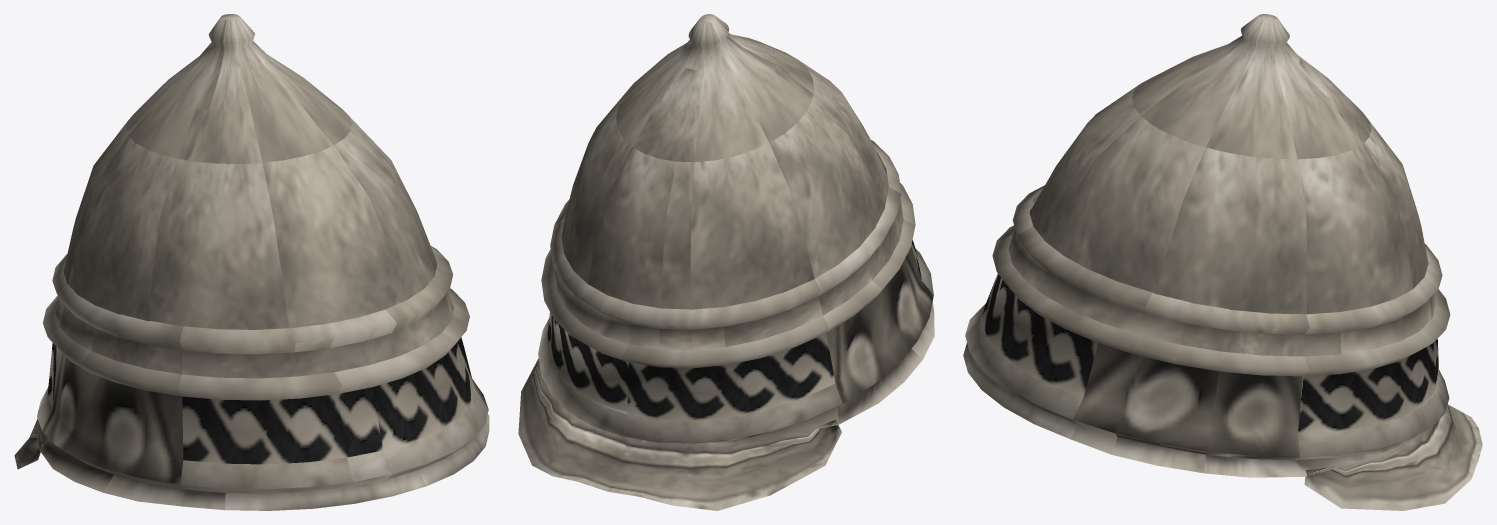
File: lusi_helmet_metal.dae
3 renders of one model, left to right at view 1: azimuth 30°, elevation 25°; view 2: azimuth 150°, elevation 25°; view 3: azimuth 270°, elevation 25°, orthographic. The views are drawn at different scales.
Visible parts, largest first — view 1: helmet_lusi_metal; view 2: helmet_lusi_metal; view 3: helmet_lusi_metal.
Boxes of the visible parts, x1,y1,x2,y2 form: helmet_lusi_metal: [14, 14, 489, 510]; helmet_lusi_metal: [518, 14, 934, 510]; helmet_lusi_metal: [963, 14, 1482, 510].
Size of the model in its own units: 0.4816 by 0.6075 by 0.566.
